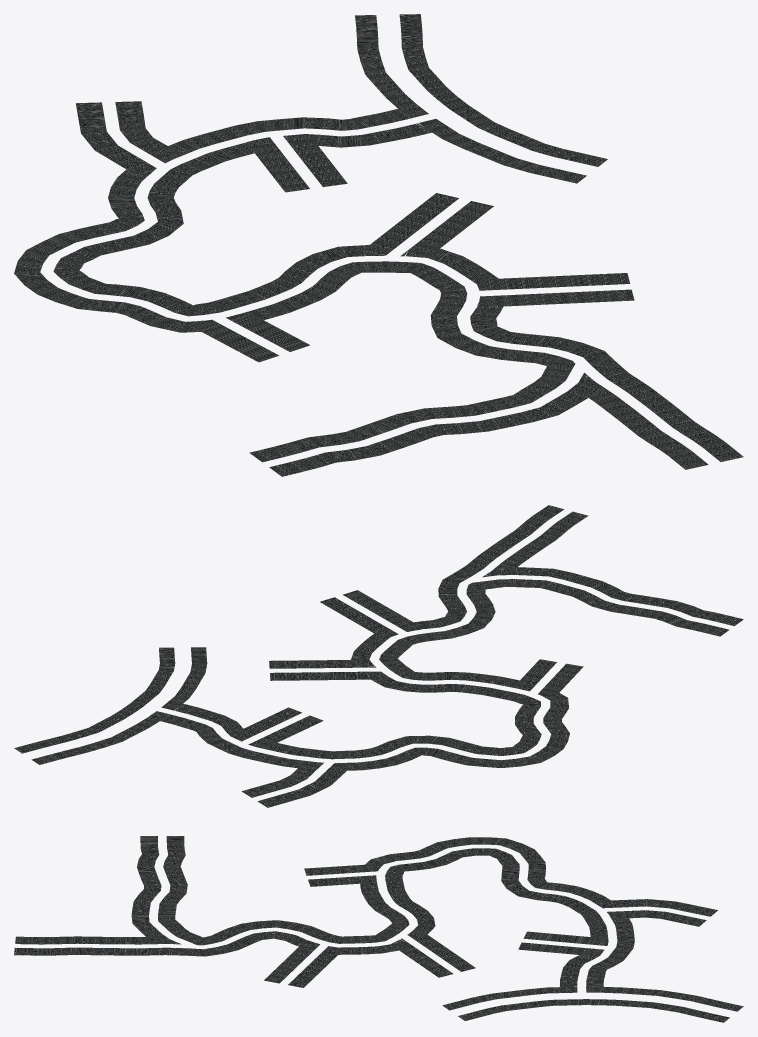
The model's file is RoadTest2Flat.glb.
The picture shows the model from 3 angles, top to bottom: view 1: azimuth 30°, elevation 25°; view 2: azimuth 150°, elevation 25°; view 3: azimuth 270°, elevation 25°; orthographic projection. The views are drawn at different scales.
Visible parts, largest first — view 1: CSGBakedMeshInstance3D; view 2: CSGBakedMeshInstance3D; view 3: CSGBakedMeshInstance3D.
Part boxes in pixels (box(x1,y1,x2,y2)): CSGBakedMeshInstance3D: box(14, 14, 743, 476); CSGBakedMeshInstance3D: box(14, 505, 743, 807); CSGBakedMeshInstance3D: box(14, 836, 743, 1022).
Size of the model in its own units: 405 by 0.6198 by 666.
Materials: 1 (1 with a texture image).
